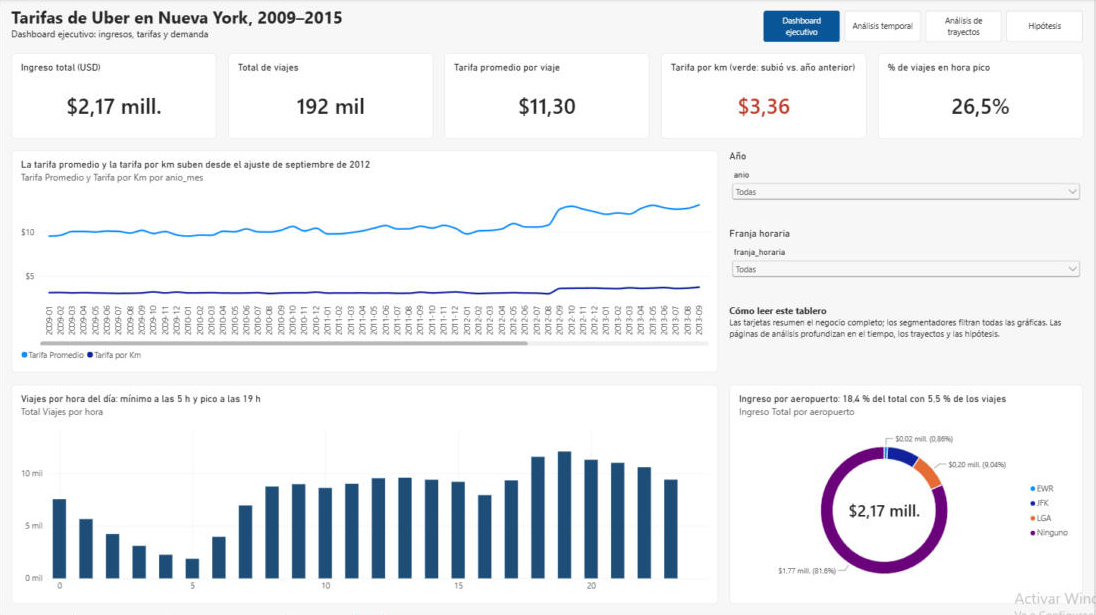

The page's visual inventory and layout, read from the dashboard file:
{"tool":"powerbi","page":{"name":"Dashboard ejecutivo","canvas":[1920,1080],"ordinal":0},"visuals":[{"type":"textbox","box":[20,10,1300,75],"z":1000},{"type":"card","title":"Ingreso total (USD)","fields":{"Values":["_Medidas.Ingreso Total"]},"box":[20,95,360,150],"z":2000},{"type":"card","title":"Total de viajes","fields":{"Values":["_Medidas.Total Viajes"]},"box":[400,95,360,150],"z":3000},{"type":"card","title":"Tarifa promedio por viaje","fields":{"Values":["_Medidas.Tarifa Promedio"]},"box":[780,95,360,150],"z":4000},{"type":"card","title":"Tarifa por km (verde: subió vs. año anterior)","fields":{"Values":["_Medidas.Tarifa por Km"]},"box":[1160,95,360,150],"z":5000},{"type":"card","title":"% de viajes en hora pico","fields":{"Values":["_Medidas.% Viajes Hora Pico"]},"box":[1540,95,360,150],"z":6000},{"type":"lineChart","title":"La tarifa promedio y la tarifa por km suben desde el ajuste de septiembre de 2012","fields":{"Category":["dim_fecha.anio_mes"],"Y":["_Medidas.Tarifa Promedio","_Medidas.Tarifa por Km"]},"box":[20,265,1240,390],"z":7000},{"type":"slicer","title":"Año","fields":{"Values":["dim_fecha.anio"]},"box":[1280,265,620,120],"z":8000},{"type":"slicer","title":"Franja horaria","fields":{"Values":["dim_hora.franja_horaria"]},"box":[1280,400,620,120],"z":9000},{"type":"textbox","box":[1280,535,620,120],"z":10000},{"type":"clusteredColumnChart","title":"Viajes por hora del día: mínimo a las 5 h y pico a las 19 h","fields":{"Category":["dim_hora.hora"],"Y":["_Medidas.Total Viajes"]},"box":[20,675,1240,385],"z":11000},{"type":"donutChart","title":"Ingreso por aeropuerto: 18,4 % del total con 5,5 % de los viajes","fields":{"Category":["fact_viajes.aeropuerto"],"Y":["_Medidas.Ingreso Total"]},"box":[1280,675,620,385],"z":12000},{"type":"pageNavigator","box":[1340,20,560,55],"z":12001}]}

Visuals, with their boxes on the page's 1920x1080 design canvas (x1, y1, x2, y2). These are canvas units, not pixel positions in the 1096x615 screenshot, which may show the page scaled, cropped or inside an application window:
textbox: x1=20, y1=10, x2=1320, y2=85
"Ingreso total (USD)" card: x1=20, y1=95, x2=380, y2=245
"Total de viajes" card: x1=400, y1=95, x2=760, y2=245
"Tarifa promedio por viaje" card: x1=780, y1=95, x2=1140, y2=245
"Tarifa por km (verde: subió vs. año anterior)" card: x1=1160, y1=95, x2=1520, y2=245
"% de viajes en hora pico" card: x1=1540, y1=95, x2=1900, y2=245
"La tarifa promedio y la tarifa por km suben desde el ajuste de septiembre de 2012" lineChart: x1=20, y1=265, x2=1260, y2=655
"Año" slicer: x1=1280, y1=265, x2=1900, y2=385
"Franja horaria" slicer: x1=1280, y1=400, x2=1900, y2=520
textbox: x1=1280, y1=535, x2=1900, y2=655
"Viajes por hora del día: mínimo a las 5 h y pico a las 19 h" clusteredColumnChart: x1=20, y1=675, x2=1260, y2=1060
"Ingreso por aeropuerto: 18,4 % del total con 5,5 % de los viajes" donutChart: x1=1280, y1=675, x2=1900, y2=1060
pageNavigator: x1=1340, y1=20, x2=1900, y2=75
